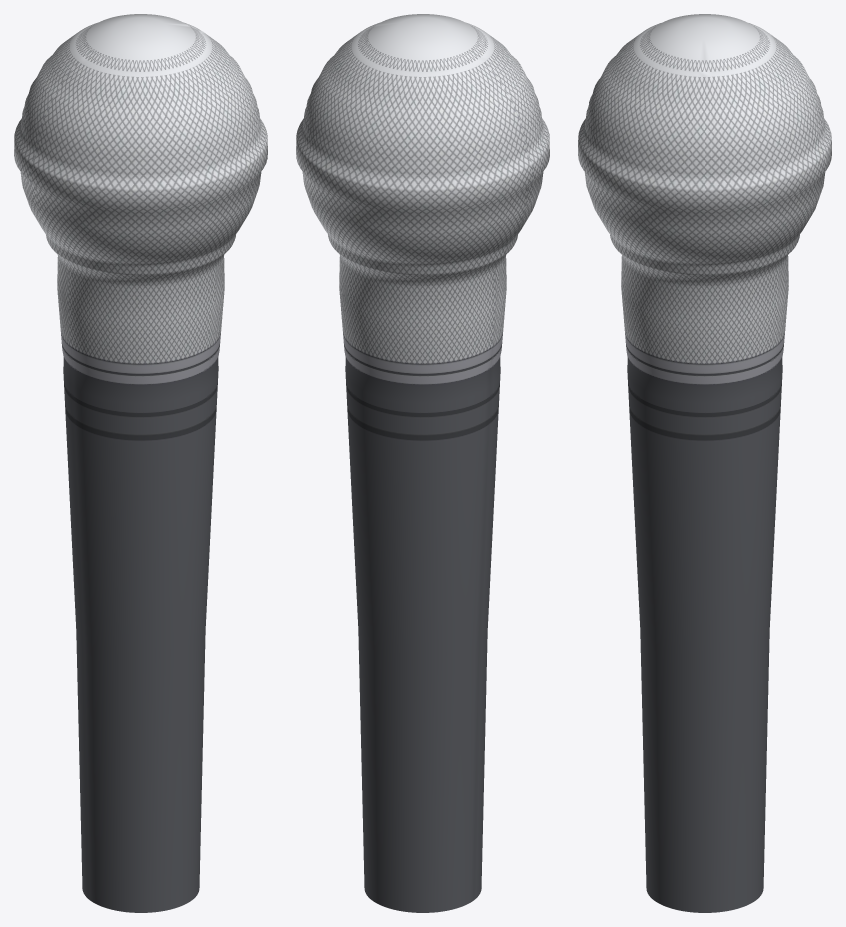
The model's file is sennheiser-e-835.glb.
3 renders of one model, left to right at view 1: azimuth 30°, elevation 25°; view 2: azimuth 150°, elevation 25°; view 3: azimuth 270°, elevation 25°, orthographic.
Visible parts, largest first — view 1: sennheiser-e-835-body; view 2: sennheiser-e-835-body; view 3: sennheiser-e-835-body.
Part boxes in pixels (x1=…): sennheiser-e-835-body: x1=14, y1=14, x2=267, y2=912; sennheiser-e-835-body: x1=296, y1=14, x2=549, y2=912; sennheiser-e-835-body: x1=578, y1=14, x2=831, y2=912.
Bounding box in the file's own units: 0.048 × 0.18 × 0.048.
Materials: 1 (1 with a texture image).
